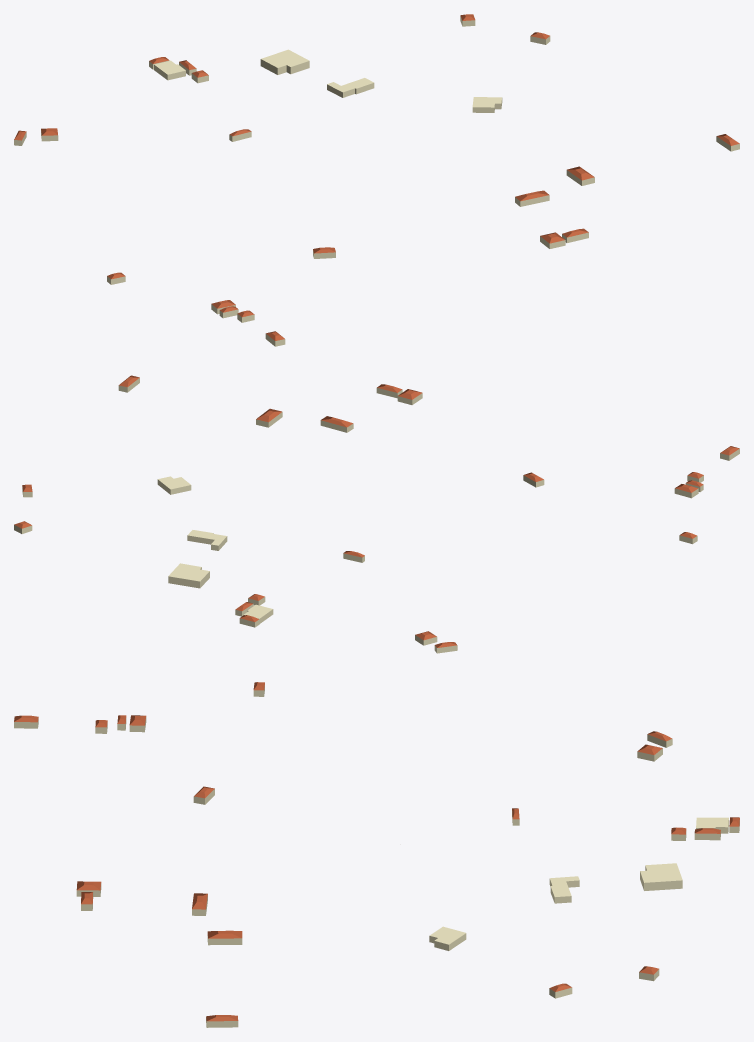
The model's file is msb_noord_m14_m6.glb.
The picture shows the model from 3 angles, top to bottom: view 1: azimuth 30°, elevation 25°; view 2: azimuth 150°, elevation 25°; view 3: azimuth 270°, elevation 25°; orthographic projection. The views are drawn at different scales.
Parts seen in each view (by area): view 1: msb_noord_m14_m6_lod0; view 2: msb_noord_m14_m6_lod0; view 3: msb_noord_m14_m6_lod0.
Boxes of the visible parts, x1=… form: msb_noord_m14_m6_lod0: x1=14, y1=14, x2=739, y2=346; msb_noord_m14_m6_lod0: x1=14, y1=375, x2=739, y2=653; msb_noord_m14_m6_lod0: x1=14, y1=682, x2=739, y2=1027.
Size of what is drawn, in the model's own units: 398 by 14.08 by 357.
